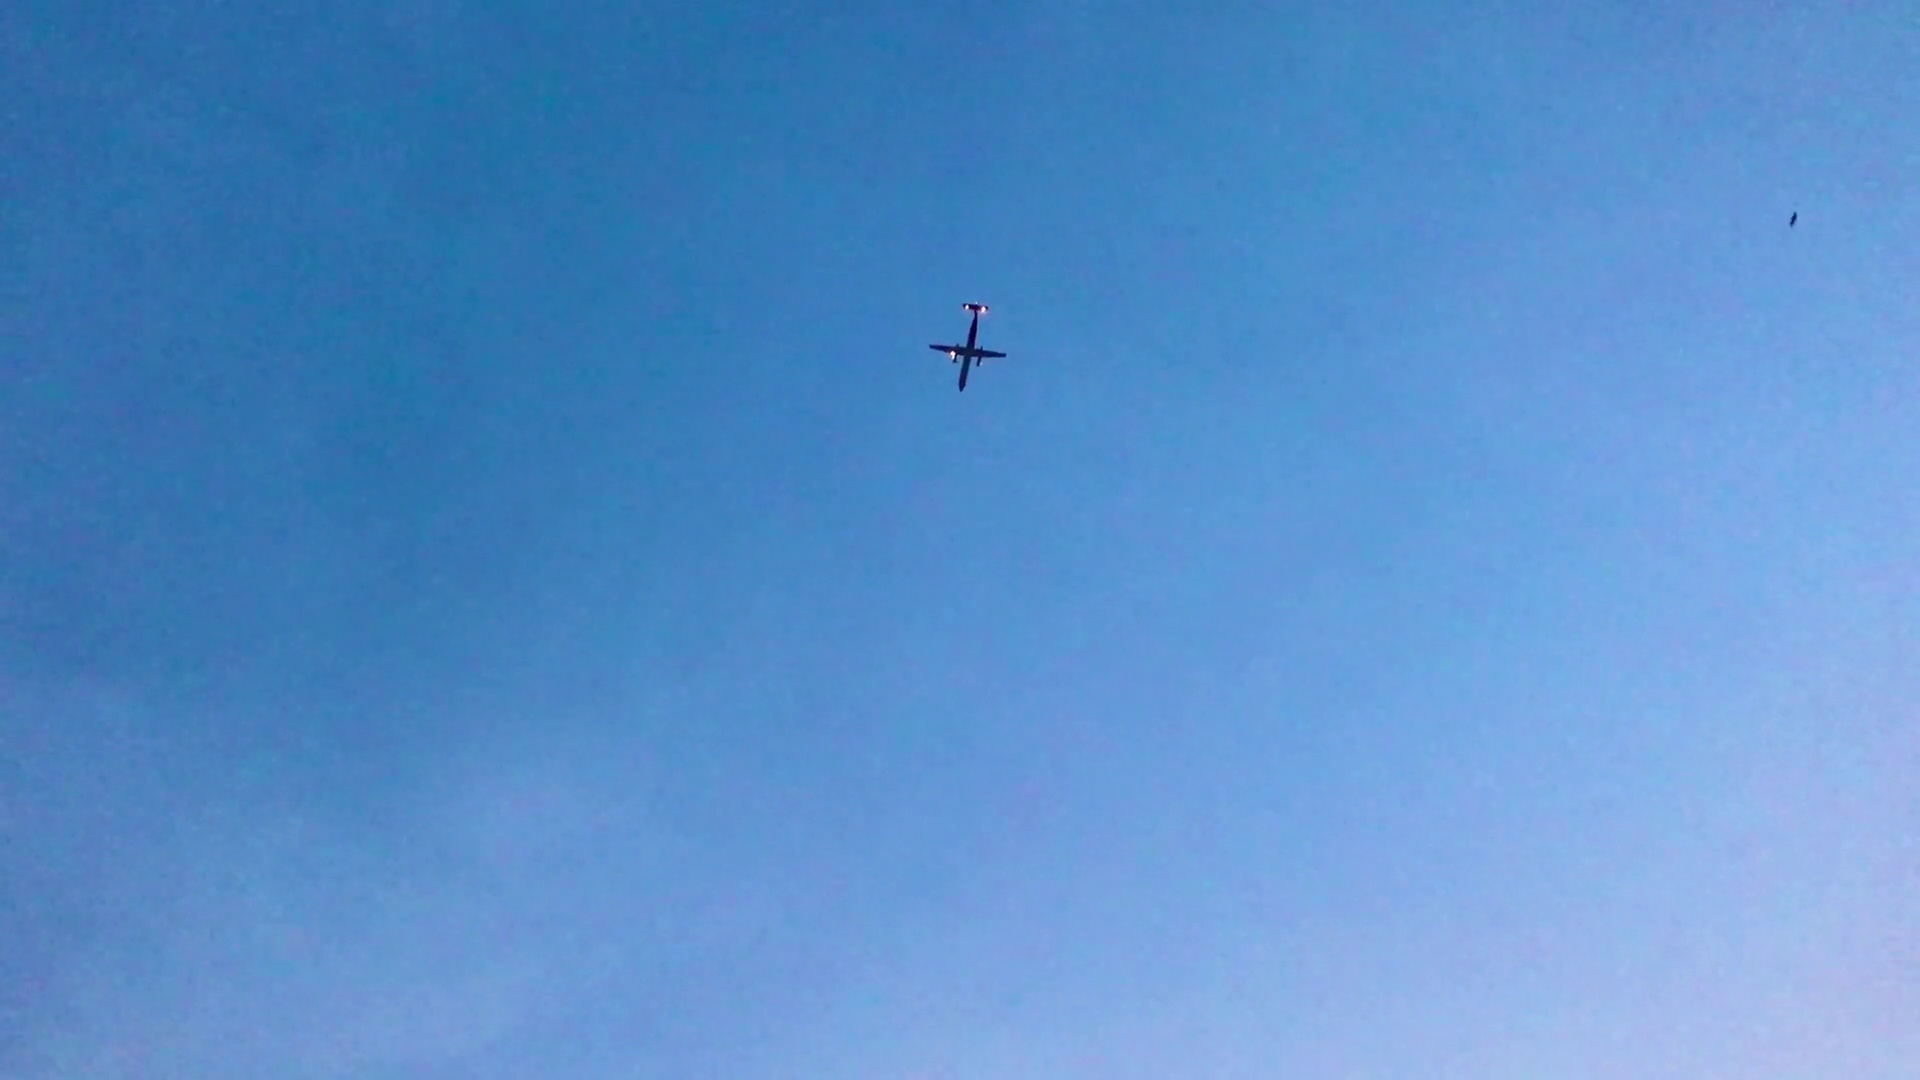plane: (928, 301, 1006, 393)
